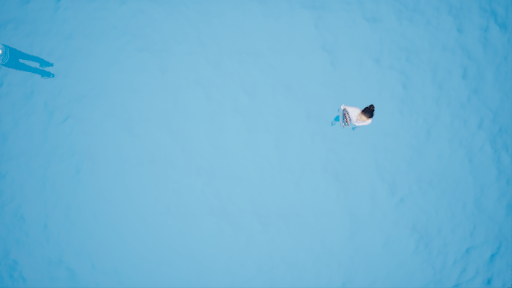person: (326, 103, 378, 134)
